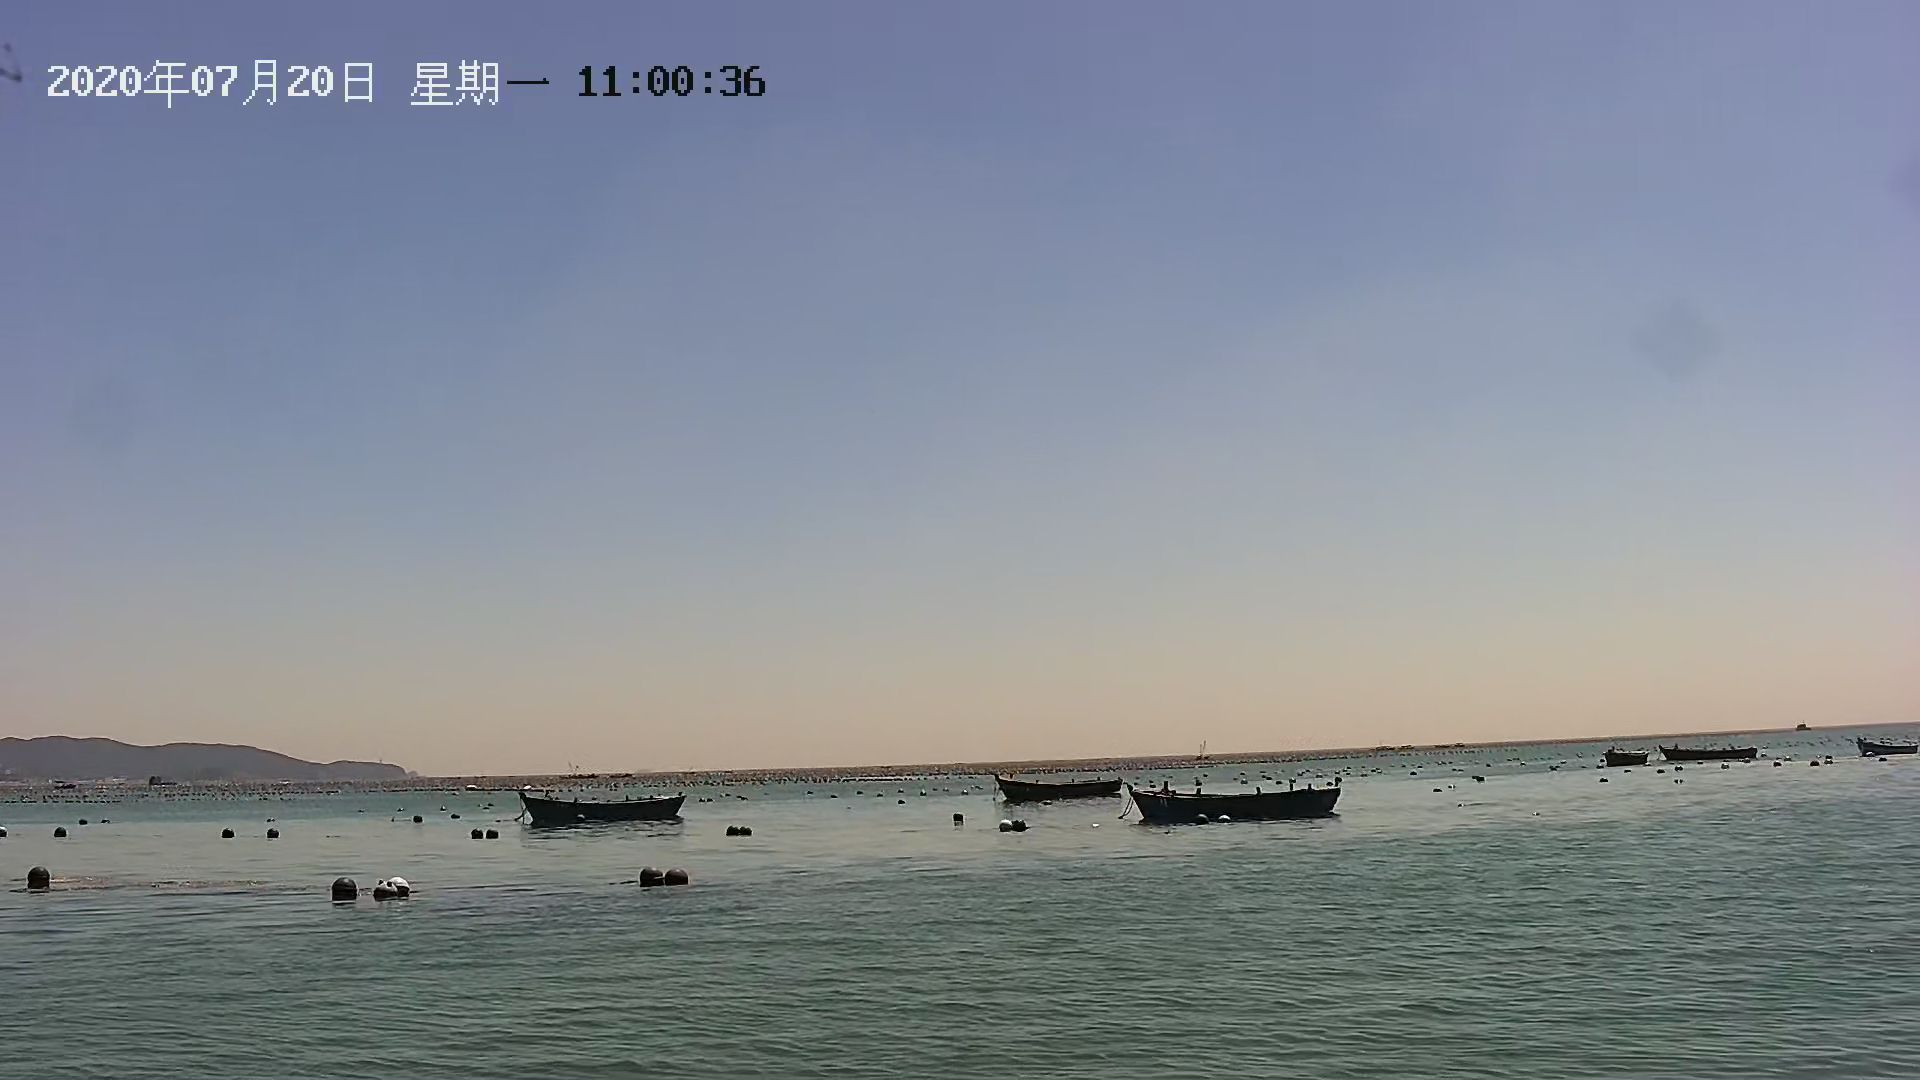ball: (319, 872, 367, 913), (372, 872, 410, 898), (22, 865, 51, 891), (638, 860, 663, 887), (662, 868, 691, 885)
boat: (1134, 782, 1345, 825), (518, 787, 684, 825), (990, 769, 1127, 804), (1658, 740, 1760, 764), (1858, 732, 1920, 756), (1600, 745, 1648, 770)
